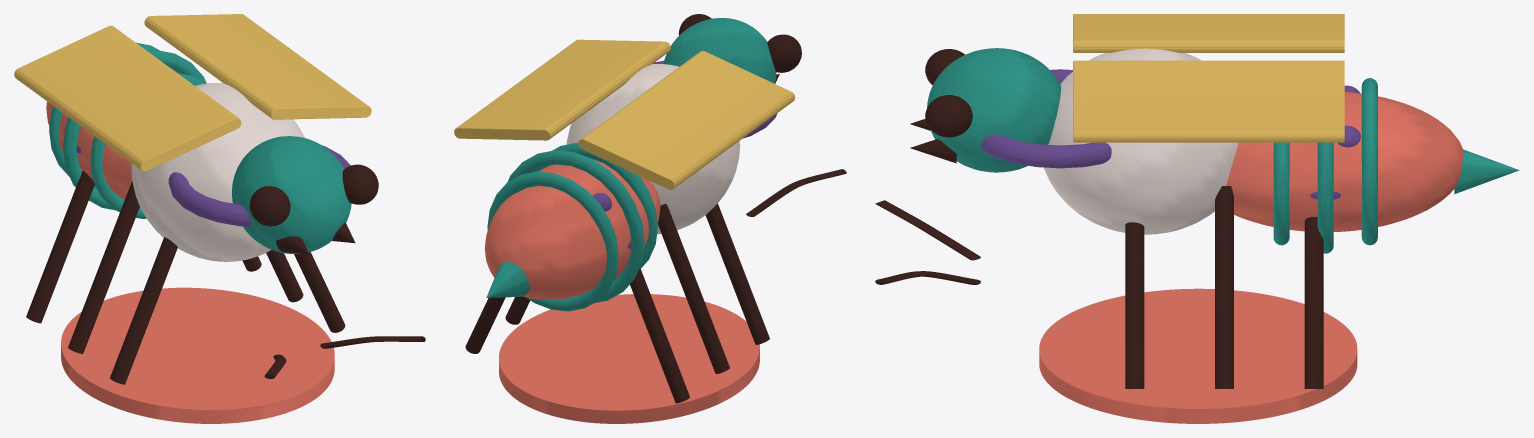
The model's file is 0122_海洋动物图鉴_雀尾螳螂虾.glb.
3 renders of one model, left to right at view 1: azimuth 30°, elevation 25°; view 2: azimuth 150°, elevation 25°; view 3: azimuth 270°, elevation 25°, orthographic. The views are drawn at different scales.
Visible parts, largest first — view 1: card_0122; view 2: card_0122; view 3: card_0122.
Part boxes in pixels (x1=…): card_0122: x1=14, y1=14, x2=425, y2=423; card_0122: x1=454, y1=14, x2=846, y2=423; card_0122: x1=875, y1=14, x2=1519, y2=423.
Bounding box in the file's own units: 0.8333 × 1 × 1.87.
